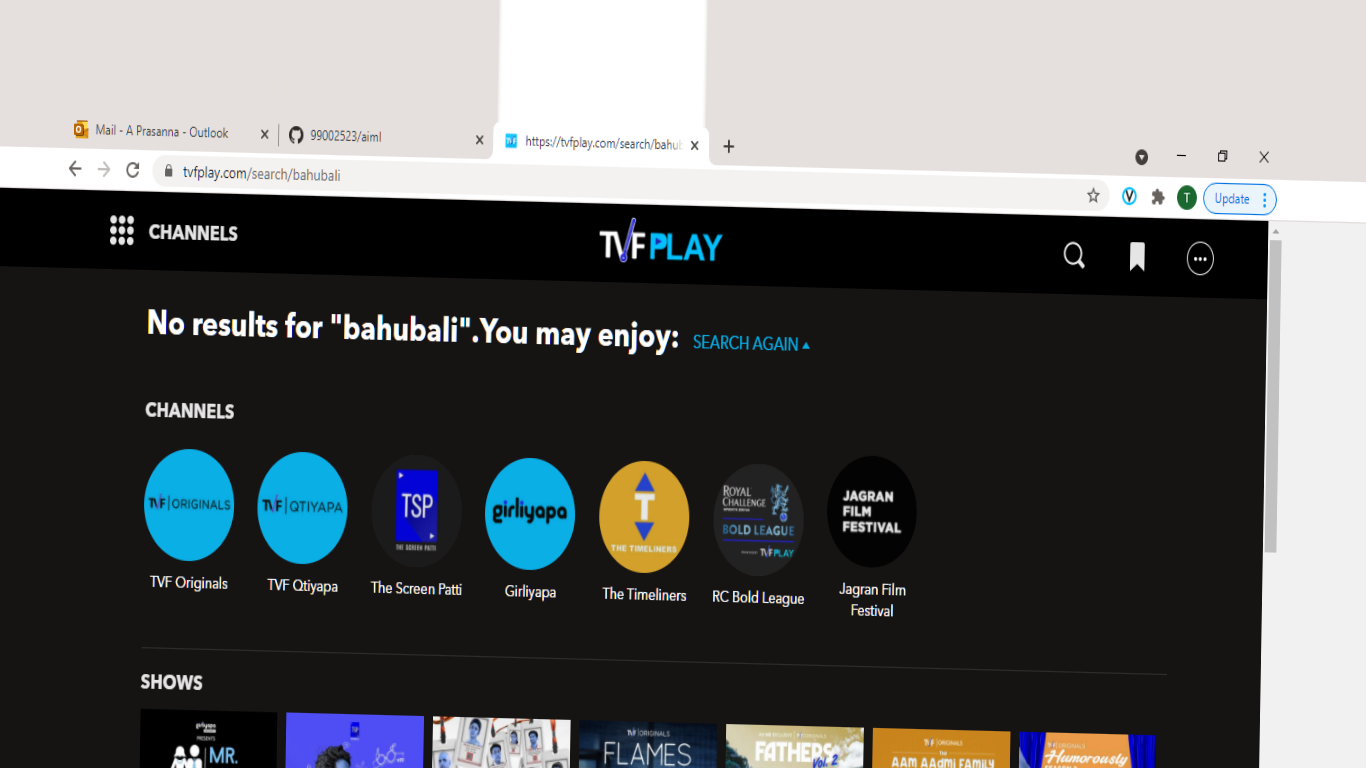noresultsfound: (140, 286, 825, 372)
profileicon: (1188, 235, 1223, 292)
searchicon: (1046, 237, 1101, 286)
